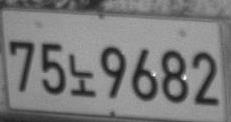2: (191, 51, 219, 105)
5: (41, 42, 66, 95)
6: (131, 49, 157, 100)
7: (9, 41, 34, 92)
8: (161, 49, 188, 103)
9: (101, 46, 126, 98)
노: (68, 53, 96, 97)
